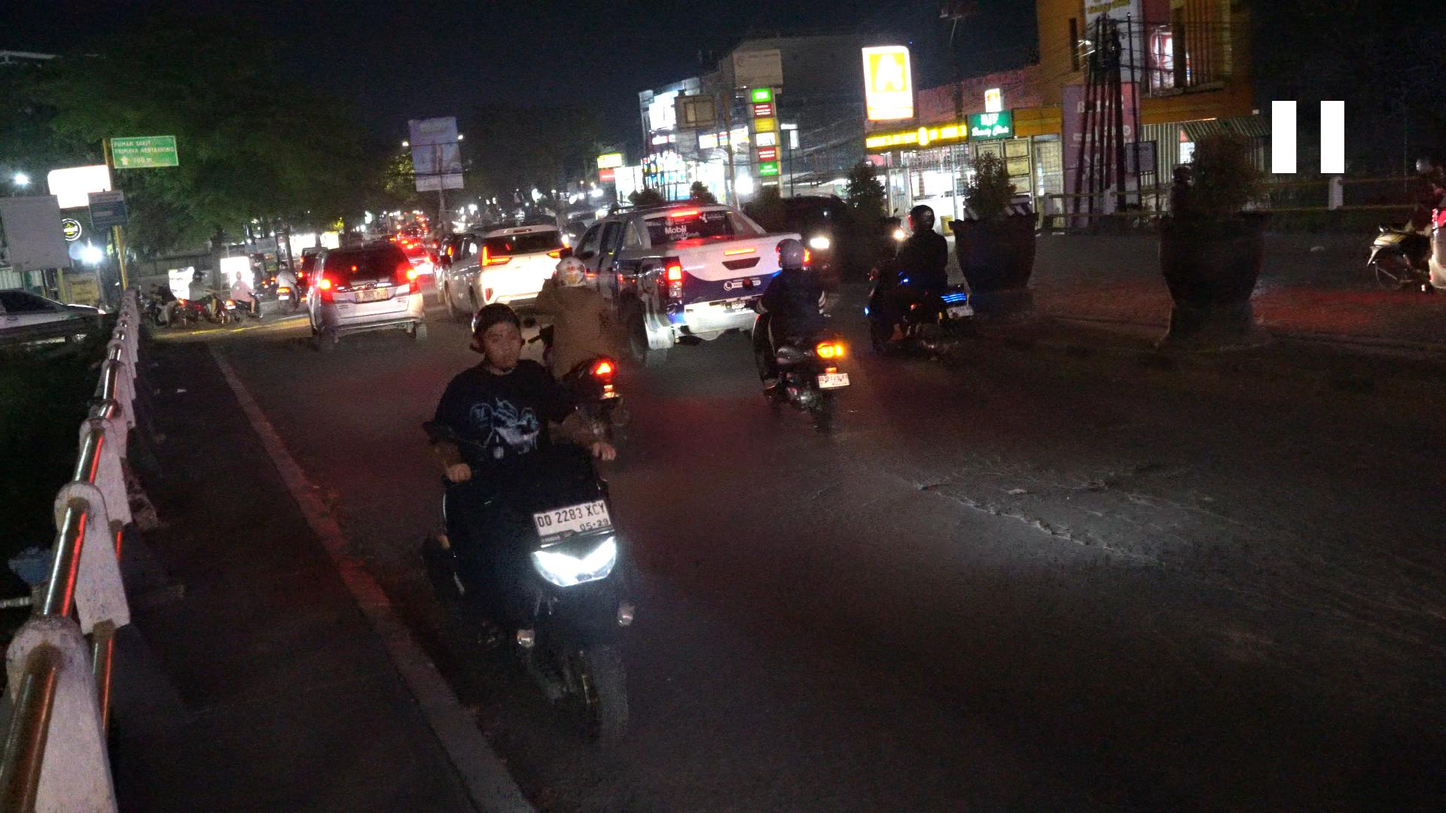number-plate: (530, 496, 617, 544)
